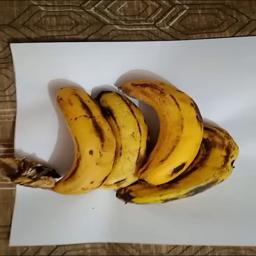Banana Semifresh: (119, 71, 241, 203), (35, 78, 115, 197), (90, 68, 151, 202)
